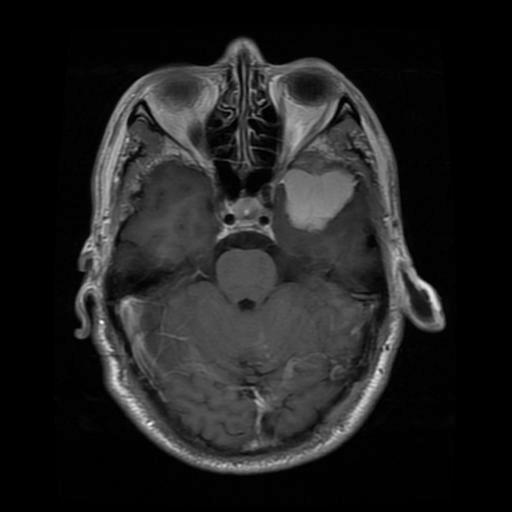Tumour-Meningioma: (274, 164, 358, 244)
